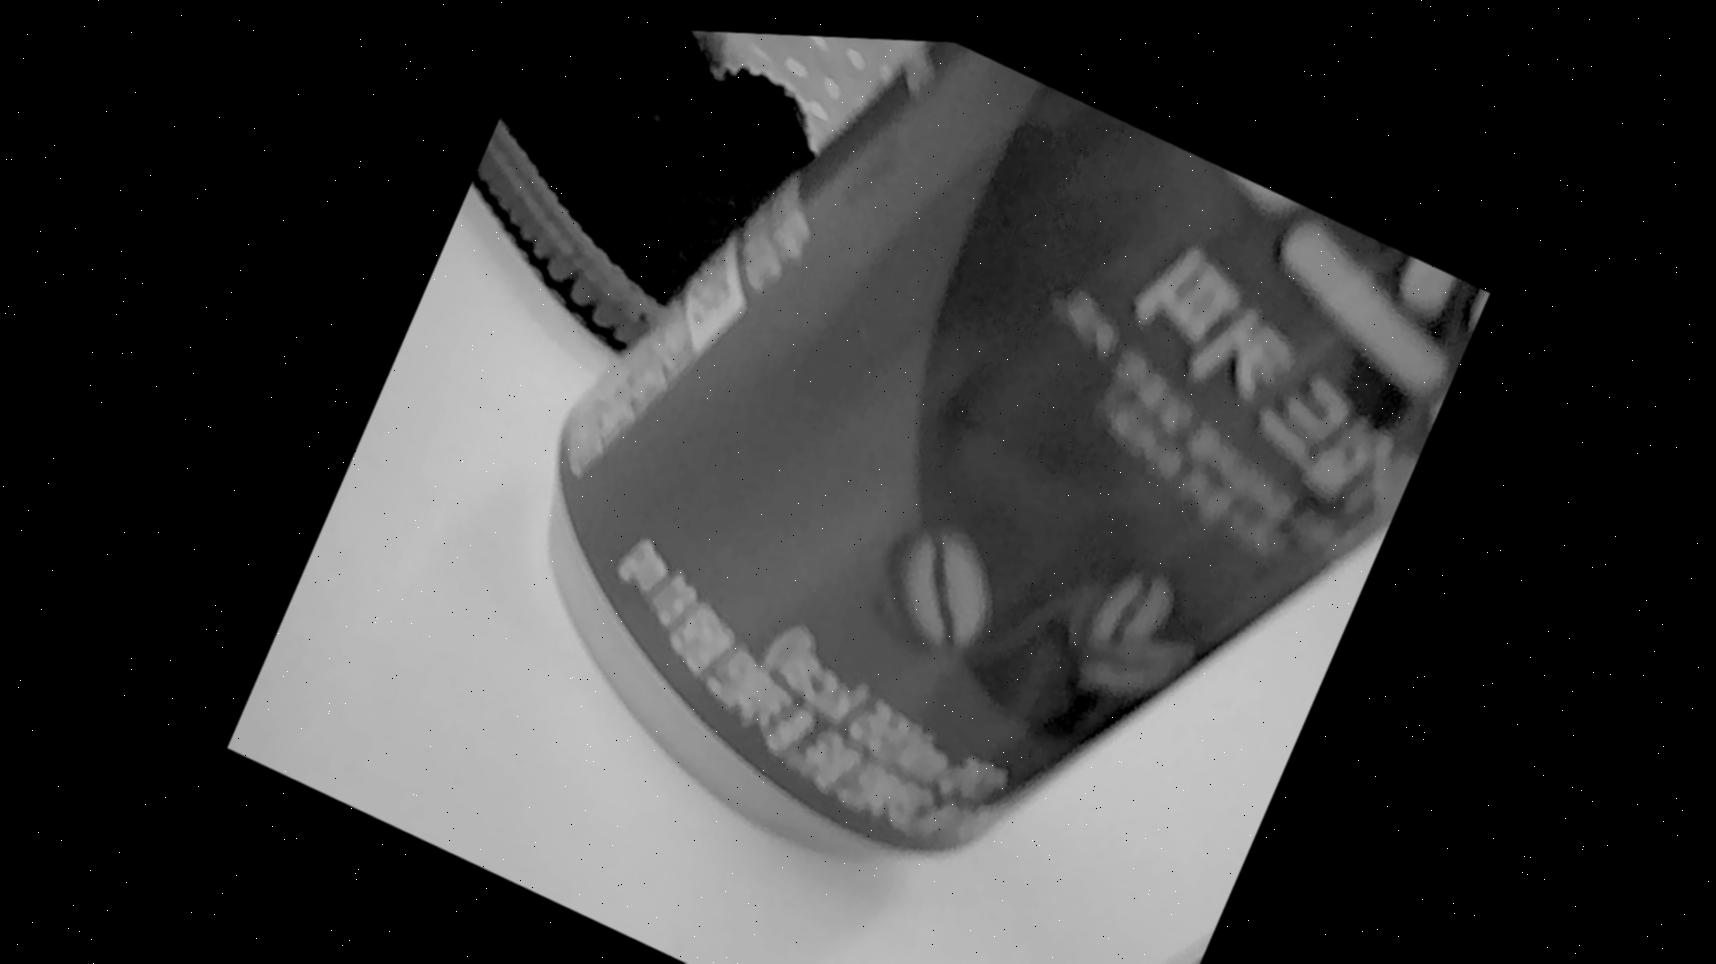letsbe: (458, 16, 1490, 964)
